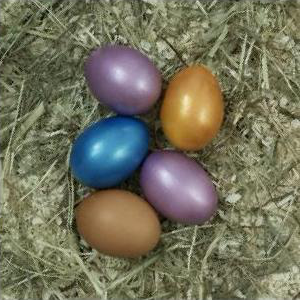egg: (73, 188, 162, 257), (137, 151, 219, 224), (68, 116, 151, 187), (159, 65, 225, 152), (86, 45, 163, 115)
